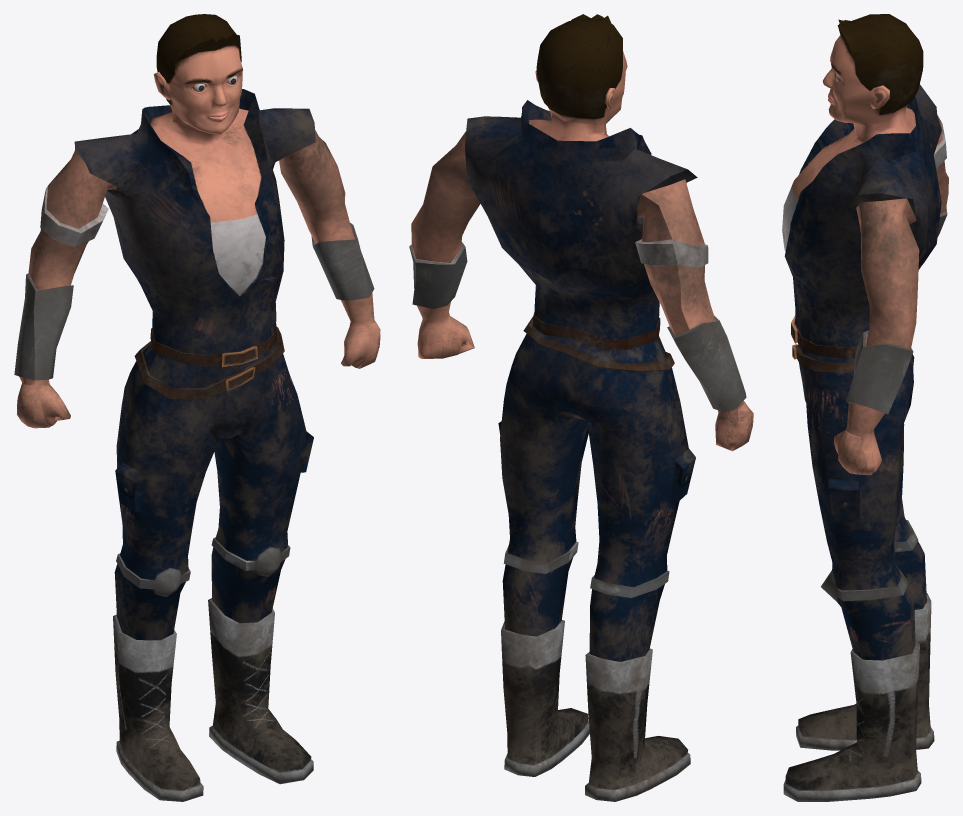
The model's file is Anim_ataque_d1_jugador.0015.obj.
The picture shows the model from 3 angles, left to right: view 1: azimuth 30°, elevation 25°; view 2: azimuth 150°, elevation 25°; view 3: azimuth 270°, elevation 25°; orthographic projection.
Visible parts, largest first — view 1: polySurface1; view 2: polySurface1; view 3: polySurface1.
Part boxes in pixels (<box>): polySurface1: <box>14,14,380,801</box>; polySurface1: <box>409,14,753,801</box>; polySurface1: <box>782,14,948,801</box>.
Size of the model in its own units: 4.67 by 9.65 by 1.95.
